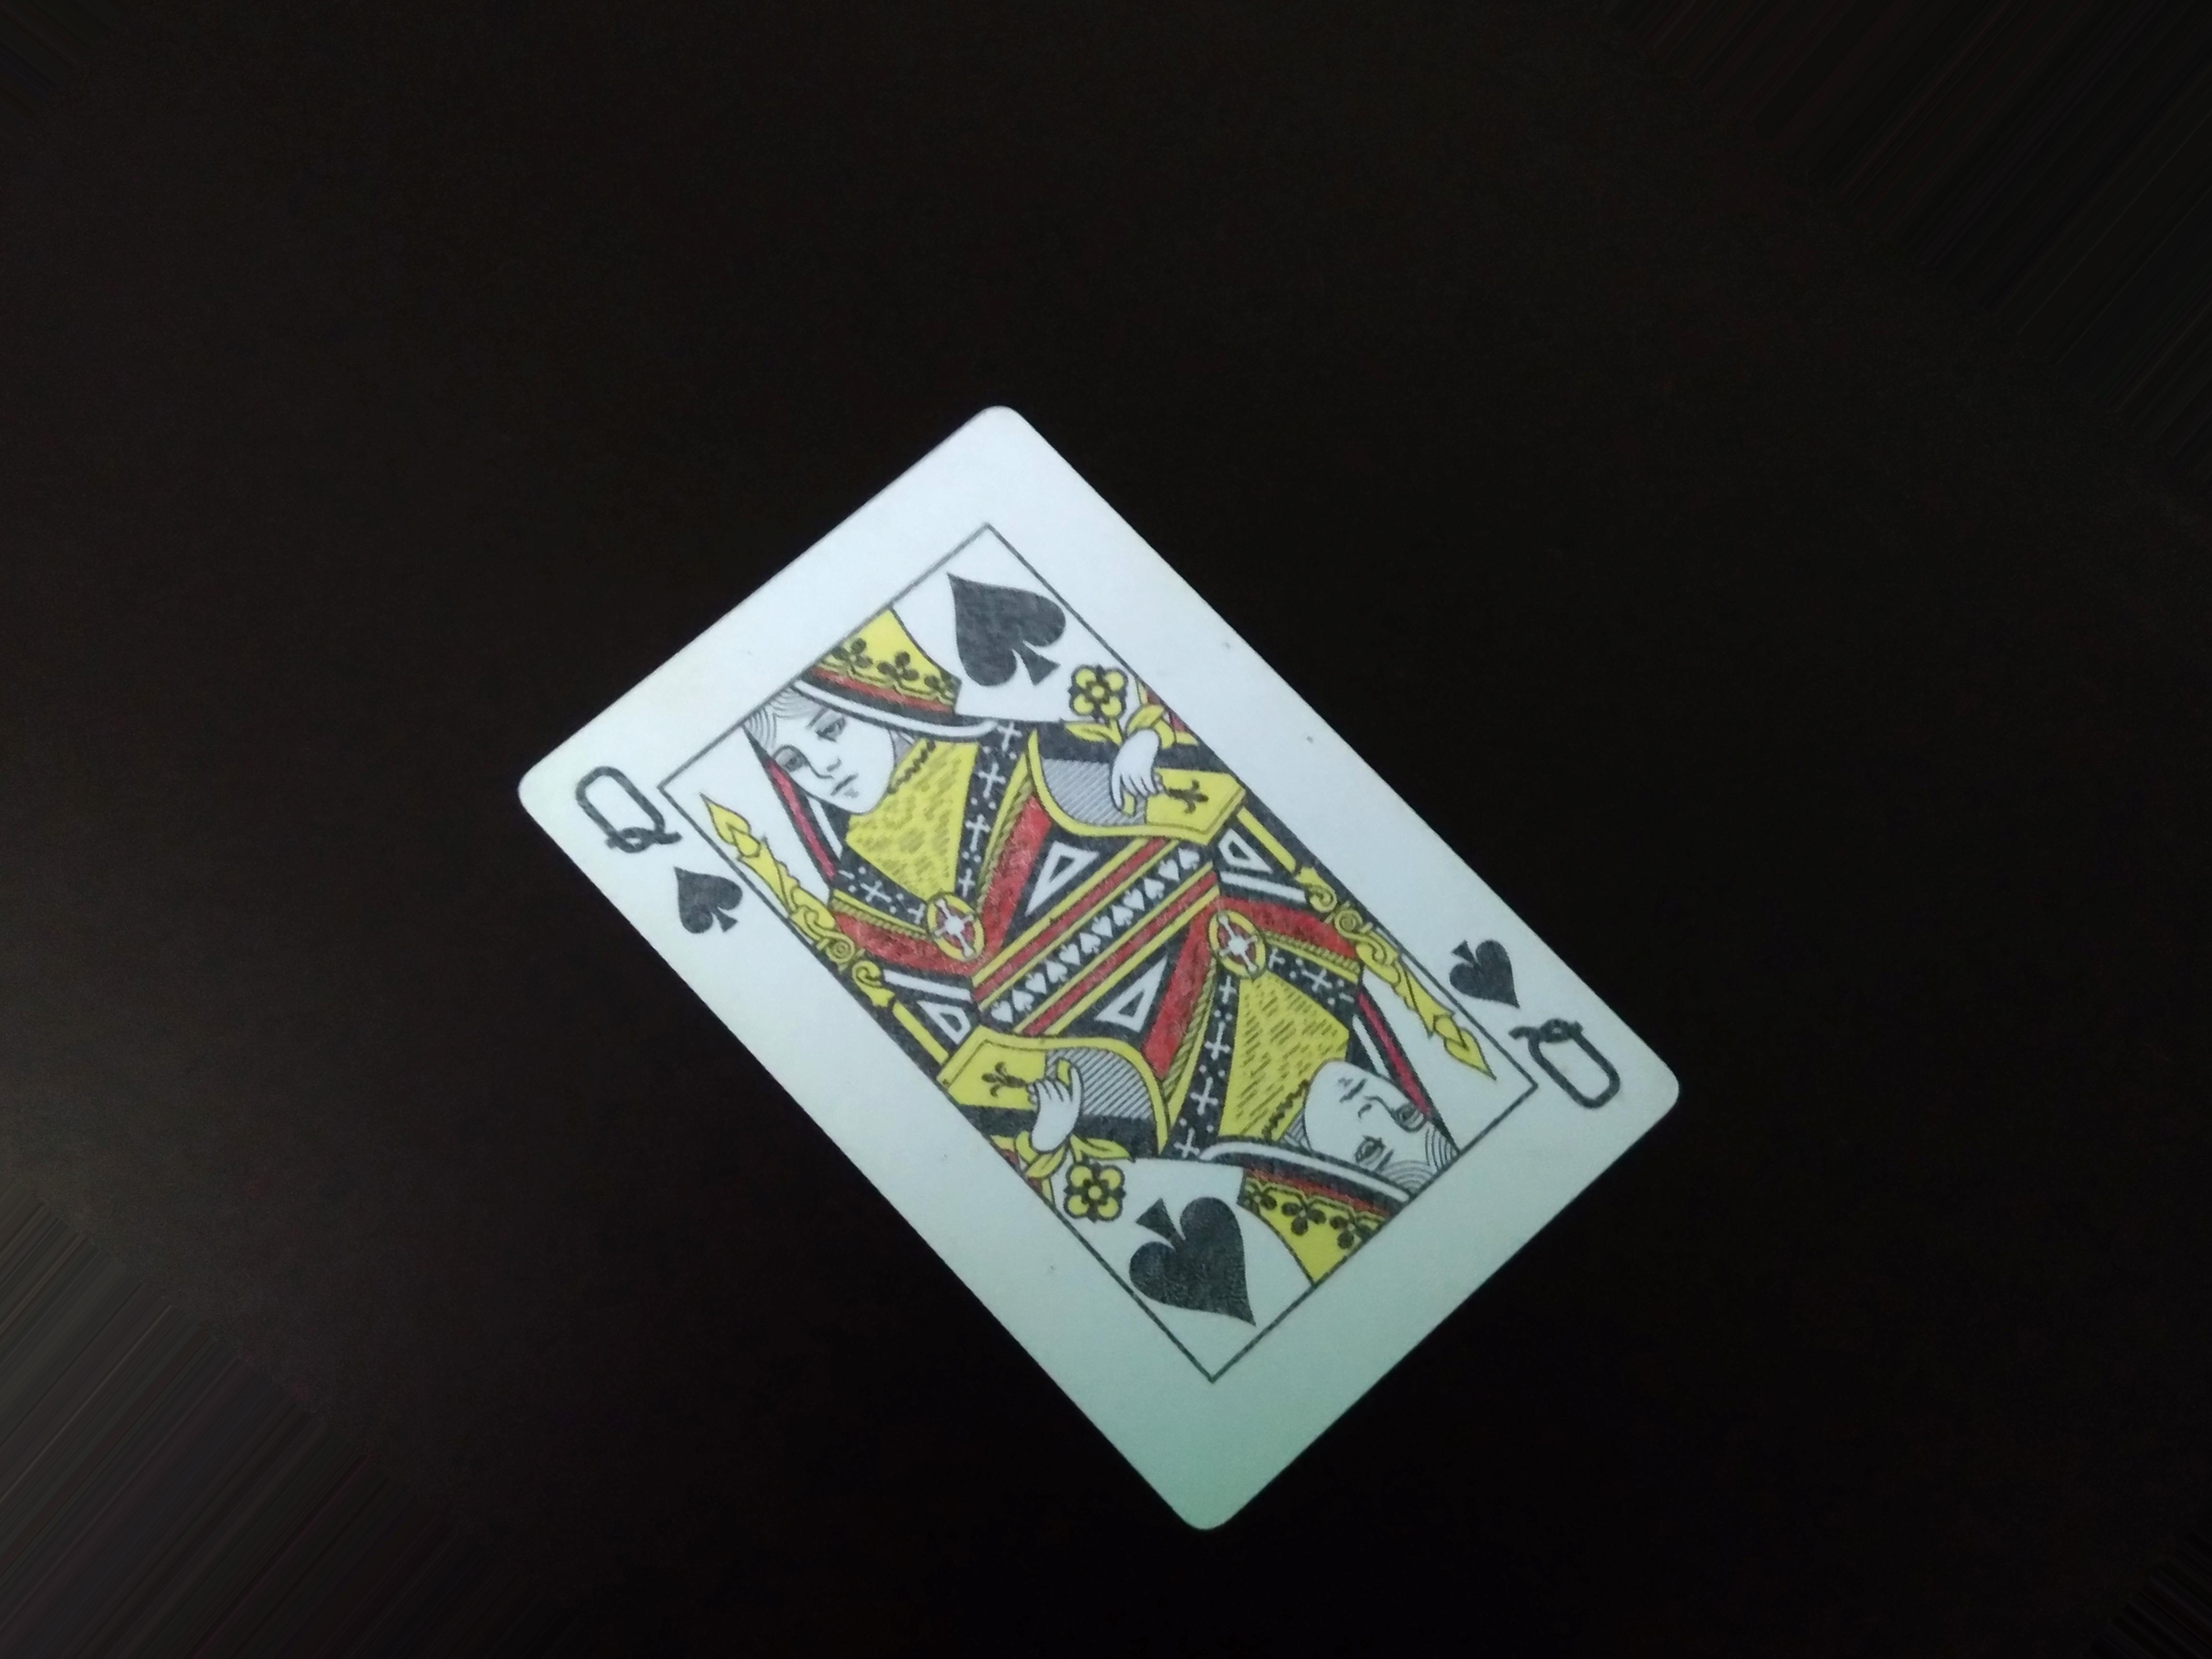QS: (552, 758, 745, 936)
